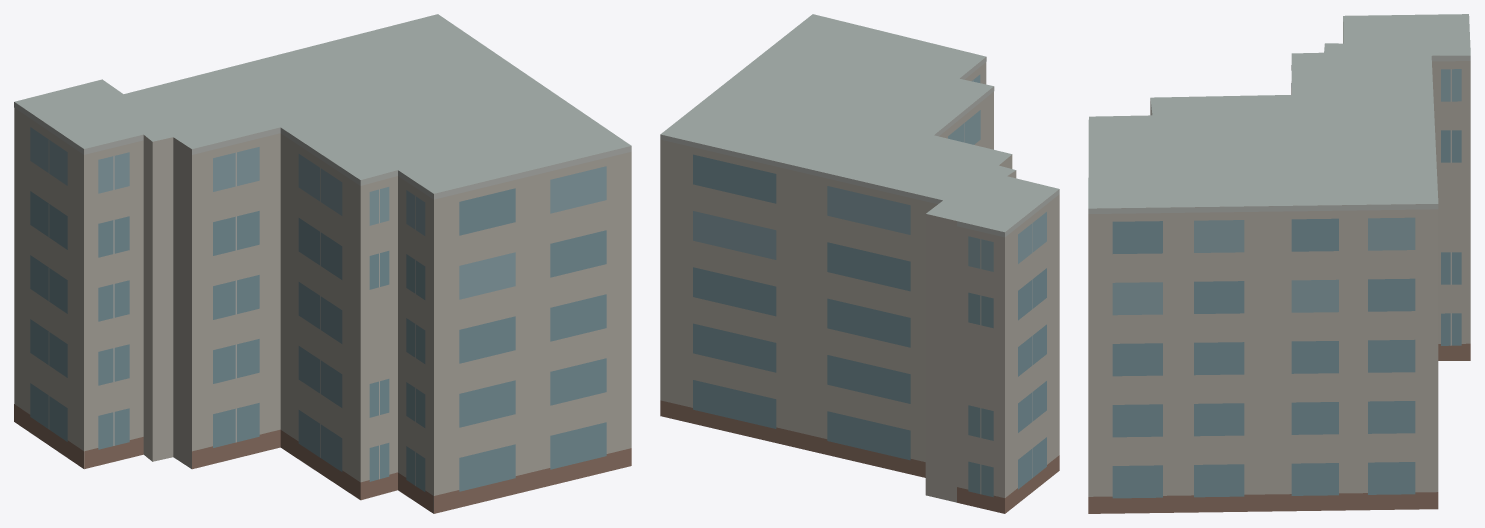
Rendered from survey-upis-32970398.glb.
The picture shows the model from 3 angles, left to right: view 1: azimuth 30°, elevation 25°; view 2: azimuth 150°, elevation 25°; view 3: azimuth 270°, elevation 25°; orthographic projection. The views are drawn at different scales.
Visible parts, largest first — view 1: survey-upis-32970398.tmp; view 2: survey-upis-32970398.tmp; view 3: survey-upis-32970398.tmp.
Part boxes in pixels (box(x1,y1,x2,y2)): survey-upis-32970398.tmp: box(14, 14, 631, 513); survey-upis-32970398.tmp: box(660, 14, 1059, 513); survey-upis-32970398.tmp: box(1088, 14, 1470, 513).
Size of the model in its own units: 18.32 by 13.4 by 15.22.
